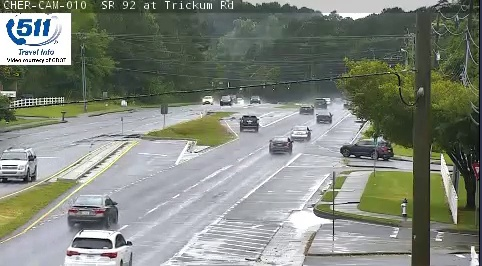car: (66, 229, 132, 266), (68, 195, 118, 225), (269, 137, 292, 153), (290, 126, 309, 141), (239, 116, 257, 130), (316, 110, 332, 123)
